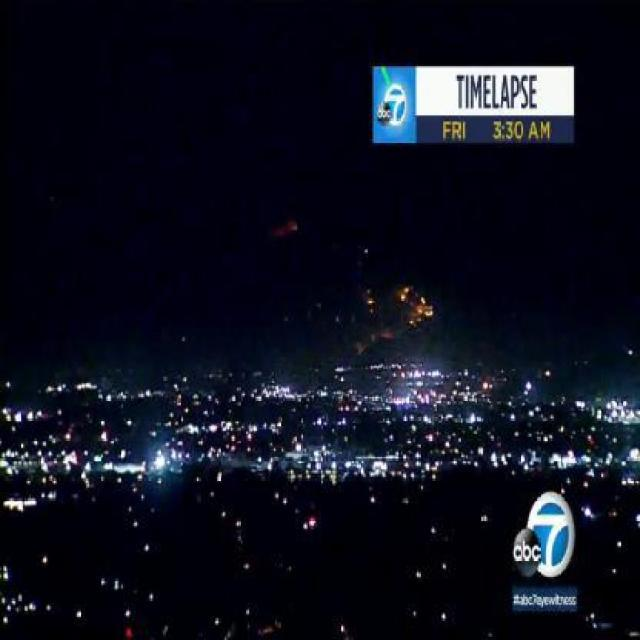Fire: (409, 296, 434, 326), (399, 284, 410, 302)
